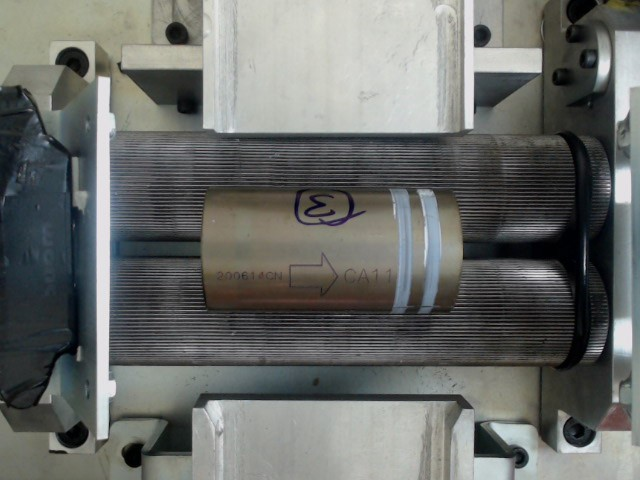arrow: (287, 250, 340, 300)
double_ringmark: (386, 190, 440, 310)
lotmark: (216, 267, 285, 284)
model_no: (342, 263, 395, 290)
